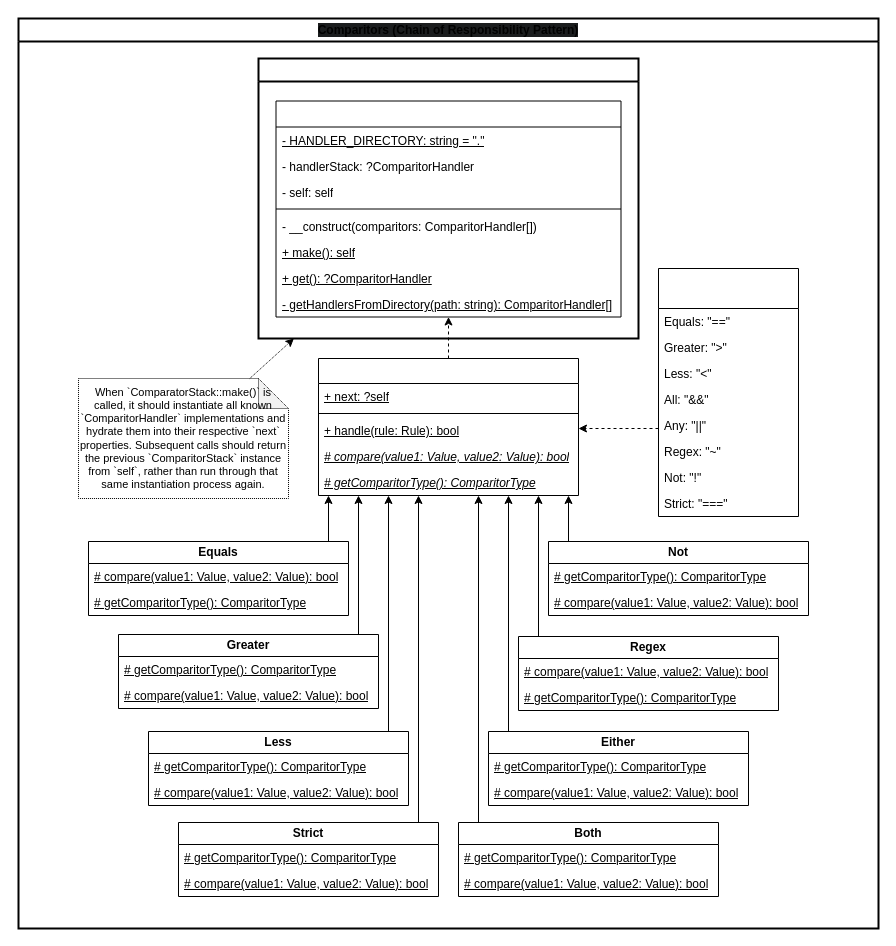
This 896x946 diagram has some shape labels left out. Here are the shapes that lost their labels. From the top down, the box of each, then its label:
(257, 57, 639, 339): Comparitor Compiler (Singleton Pattern)
(275, 100, 621, 317): ComparitorStack
(658, 268, 798, 516): <<enumeration>> ComparitorType : string
(318, 358, 578, 496): ComparitorHandler
